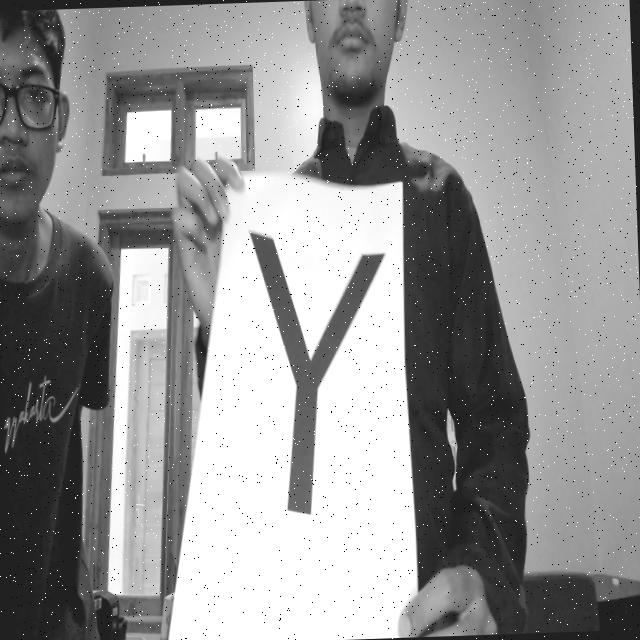y: (236, 213, 410, 562)
